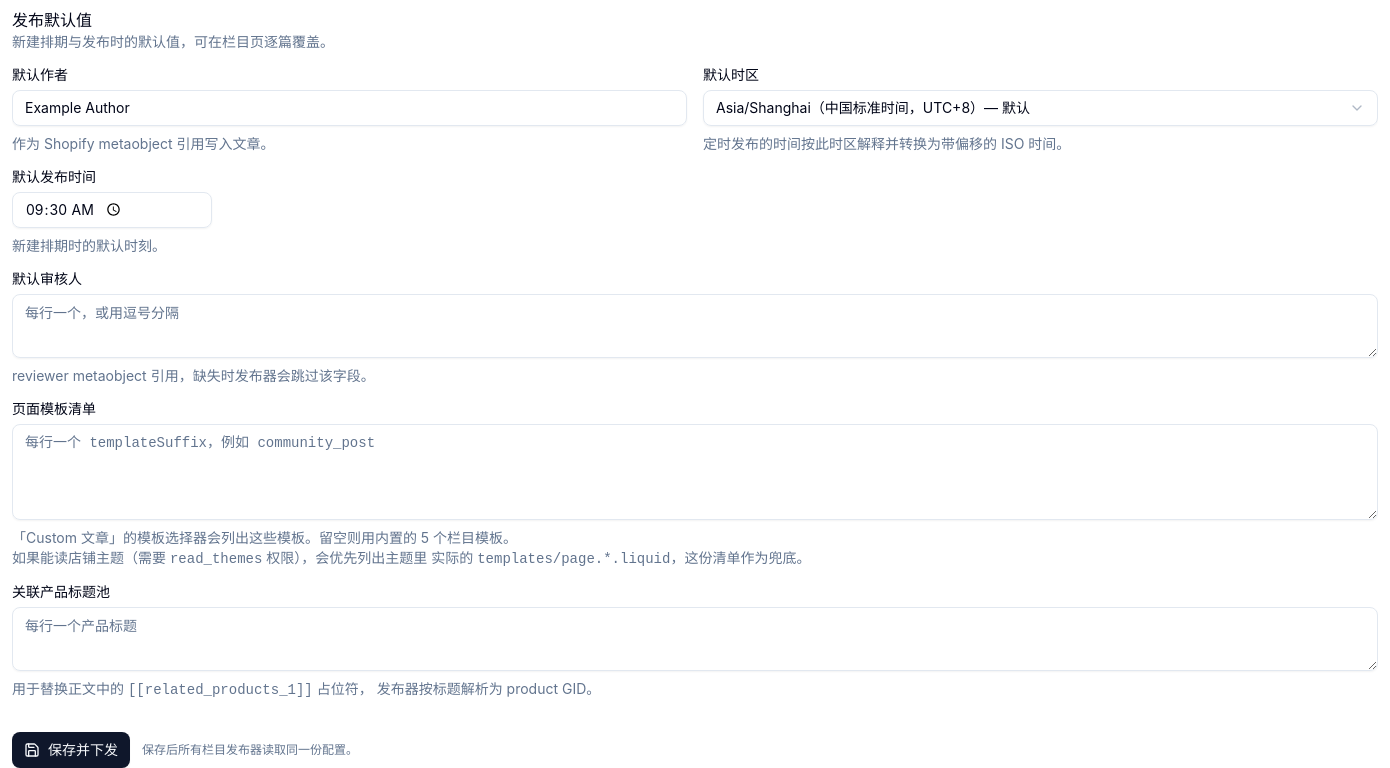
Scenario: GlobalSettingsForm 中英双语 › 保存成功的 toast 也按当前语言
(page scrolled)
Click the button "保存并下发": {"x": 71, "y": 750} [12, 732, 130, 767]
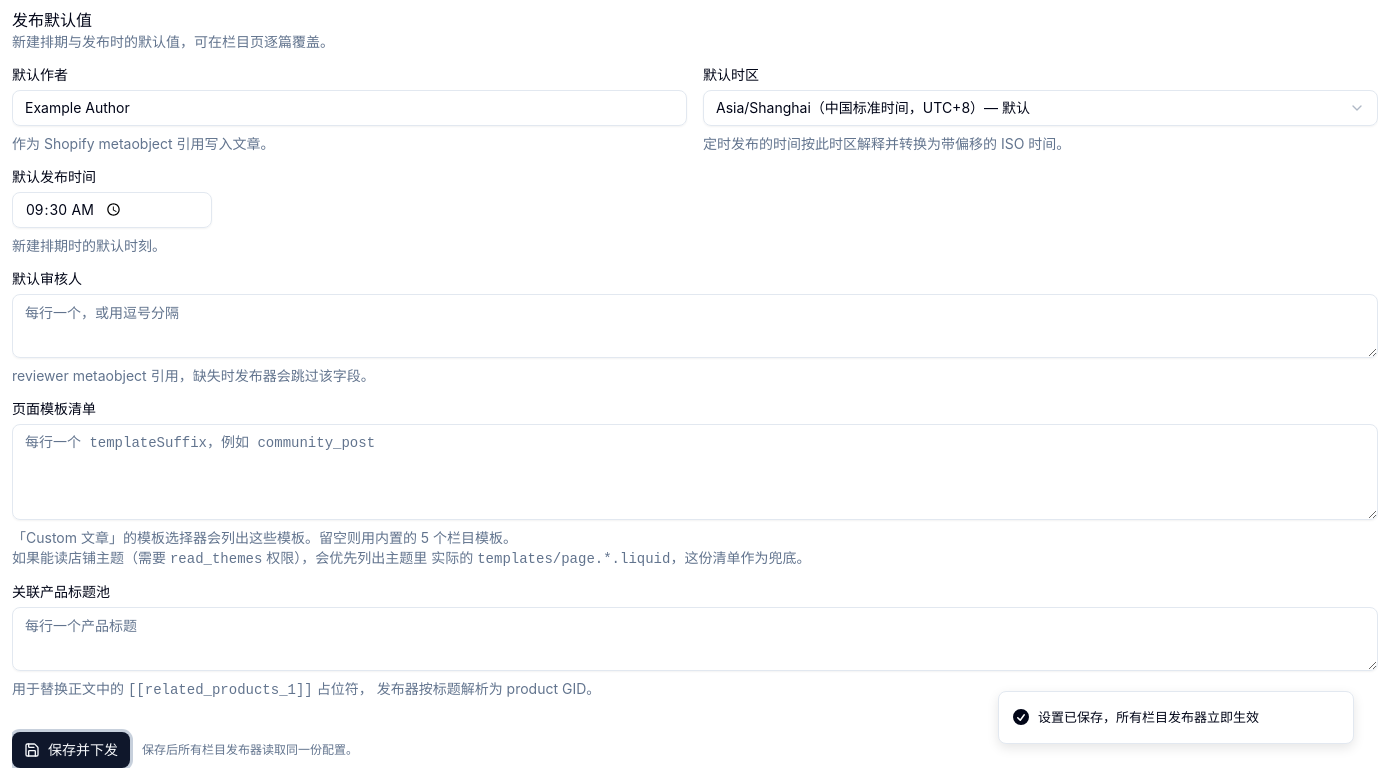
Expected: the text "设置已保存，所有栏目发布器立即生效" is shown, [1038, 708, 1259, 726]
